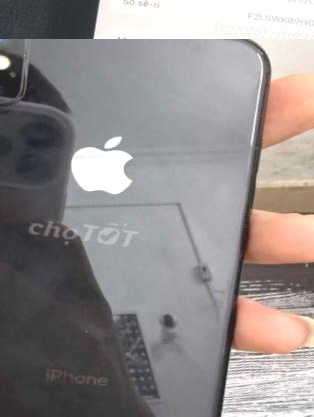scratch: (72, 308, 99, 353), (12, 42, 41, 72), (236, 39, 252, 48)
